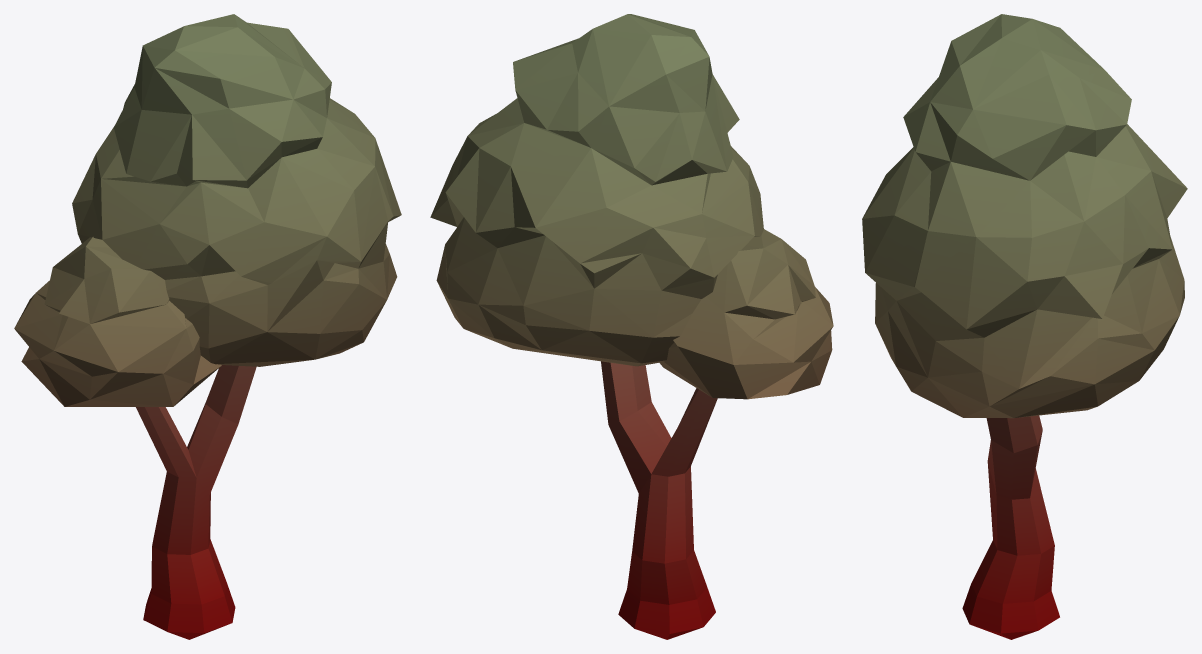
File: synty-tree-round-04.gltf
The picture shows the model from 3 angles, left to right: view 1: azimuth 30°, elevation 25°; view 2: azimuth 150°, elevation 25°; view 3: azimuth 270°, elevation 25°; orthographic projection. The views are drawn at different scales.
Parts seen in each view (by area): view 1: SM_Tree_Round_04; view 2: SM_Tree_Round_04; view 3: SM_Tree_Round_04.
Part boxes in pixels (box(x1,y1,x2,y2)): SM_Tree_Round_04: box(14, 14, 401, 639); SM_Tree_Round_04: box(430, 14, 833, 639); SM_Tree_Round_04: box(862, 14, 1187, 639).
Size of the model in its own units: 2.33 by 3.83 by 1.81.
Materials: 1 (1 with a texture image).
